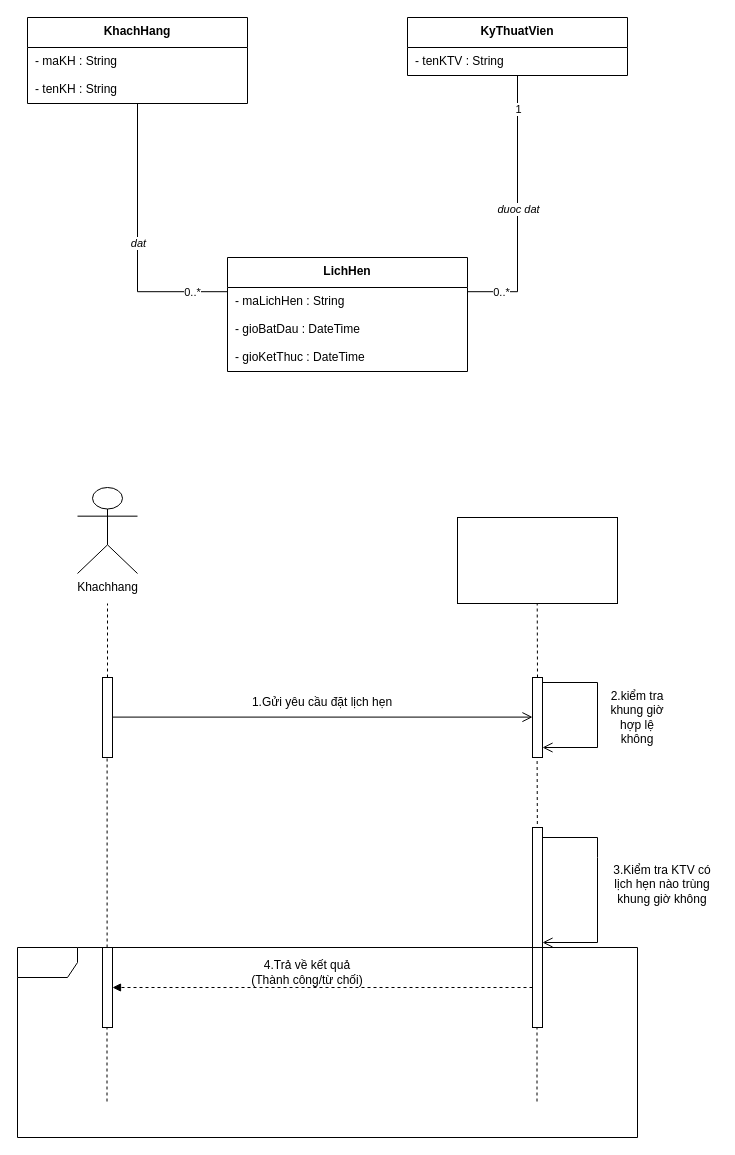
Some shapes in this 735 by 1155 pixel diagram are drawn without their labels. The shapes that lost their labels are listed below. From the top down, each one's centre as x and y in pixels, then its label:
the point at 537,560: Hethong
the point at 327,1042: frame
